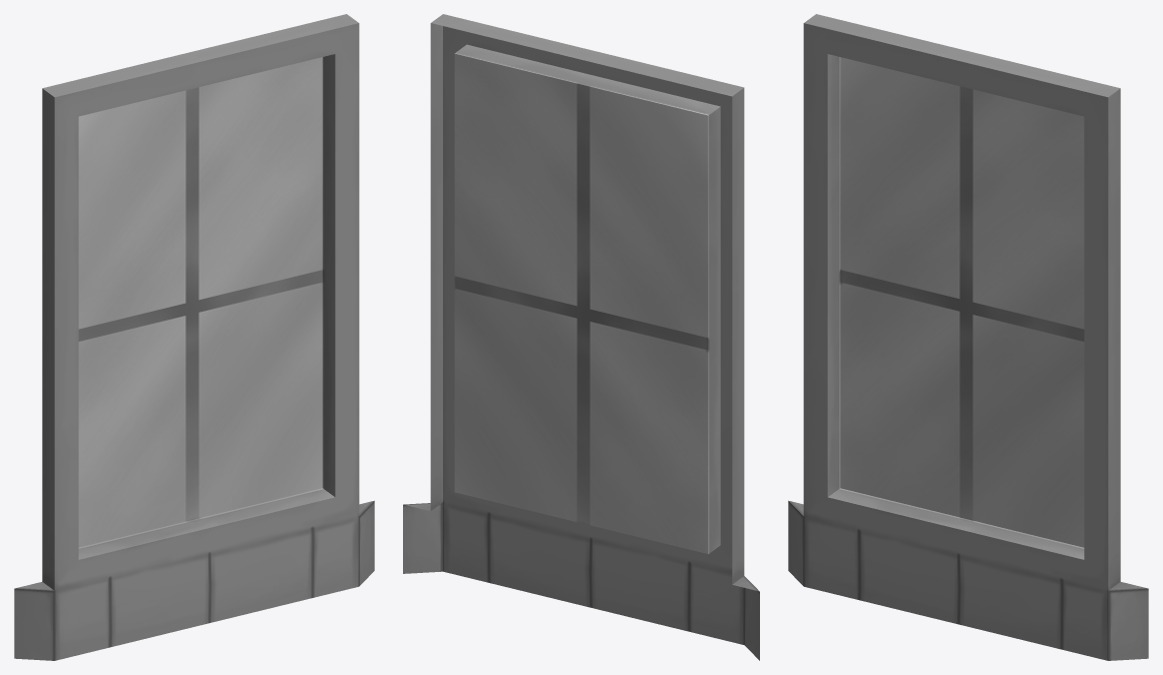
The model's file is window_1.fbx.
3 views of the same model, side by side, from view 1: azimuth 30°, elevation 25°; view 2: azimuth 150°, elevation 25°; view 3: azimuth 330°, elevation 25° (orthographic).
Parts seen in each view (by area): view 1: window_1; view 2: window_1; view 3: window_1.
Part boxes in pixels (x1,y1,x2,y2): window_1: (14, 14, 374, 660); window_1: (403, 14, 759, 660); window_1: (788, 14, 1148, 660).
Size of the model in its own units: 2.71 by 4.05 by 0.1619.
1 material, 1 textured.
